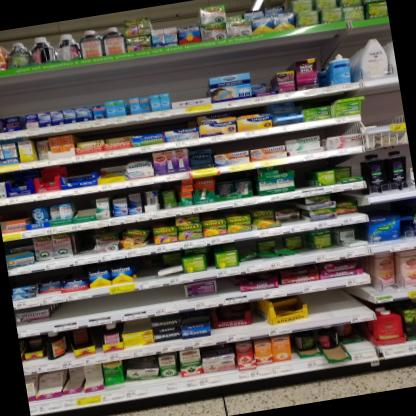empty_space: (167, 78, 208, 111), (320, 288, 350, 320), (149, 286, 184, 311), (70, 200, 98, 225), (54, 300, 83, 324), (118, 291, 146, 315), (0, 209, 25, 235), (88, 297, 114, 321), (293, 164, 316, 191), (135, 259, 159, 282)
